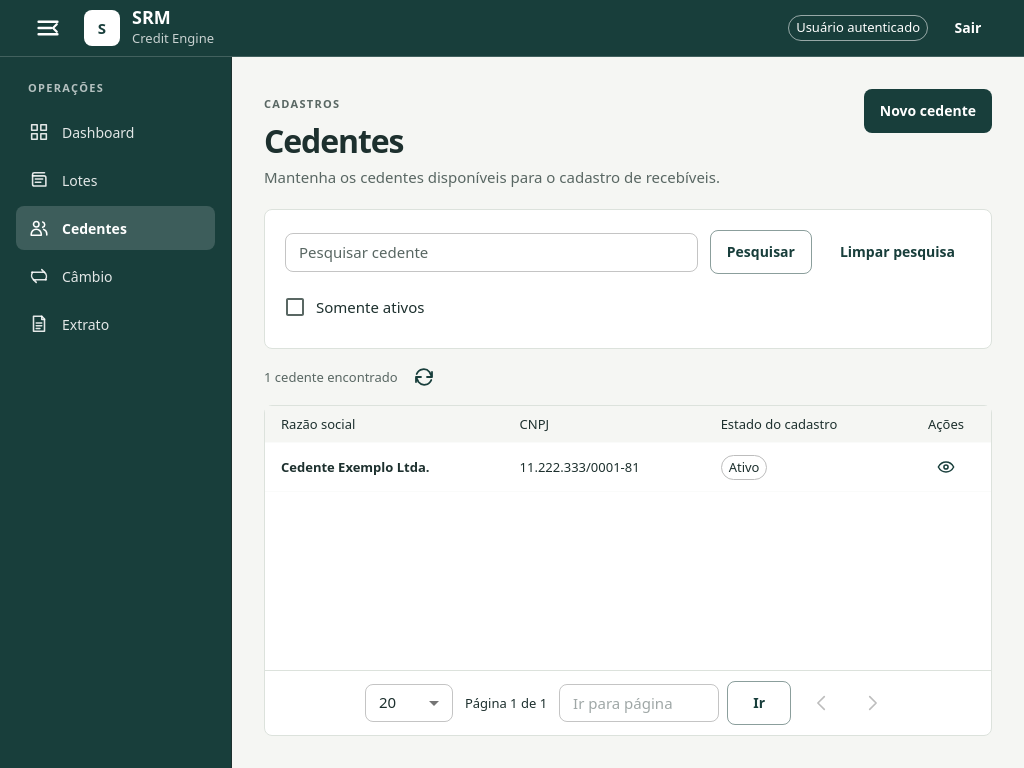
it: falha de consulta após POST aceito mantém dados e permite somente repetir GET
Expected: the table is shown, [265, 406, 991, 492]
Click the button "Novo cedente": (928, 111) [864, 89, 992, 133]
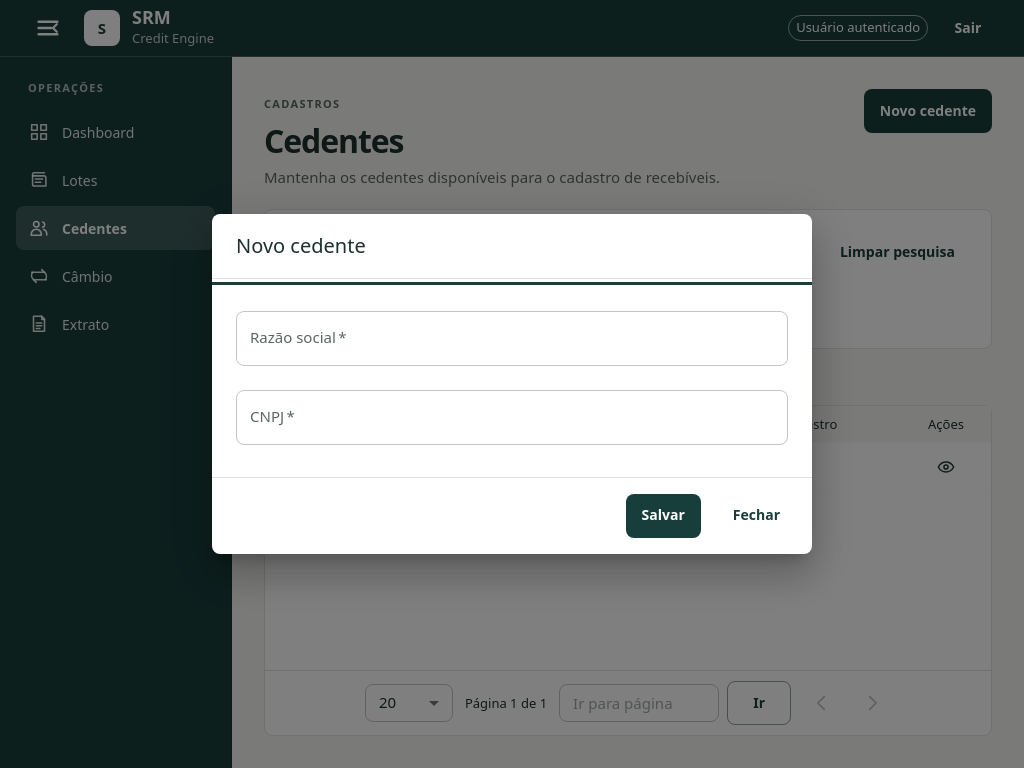
In the field labelled "Razão social": (512, 339) [236, 311, 788, 366], type "Meu rascunho"
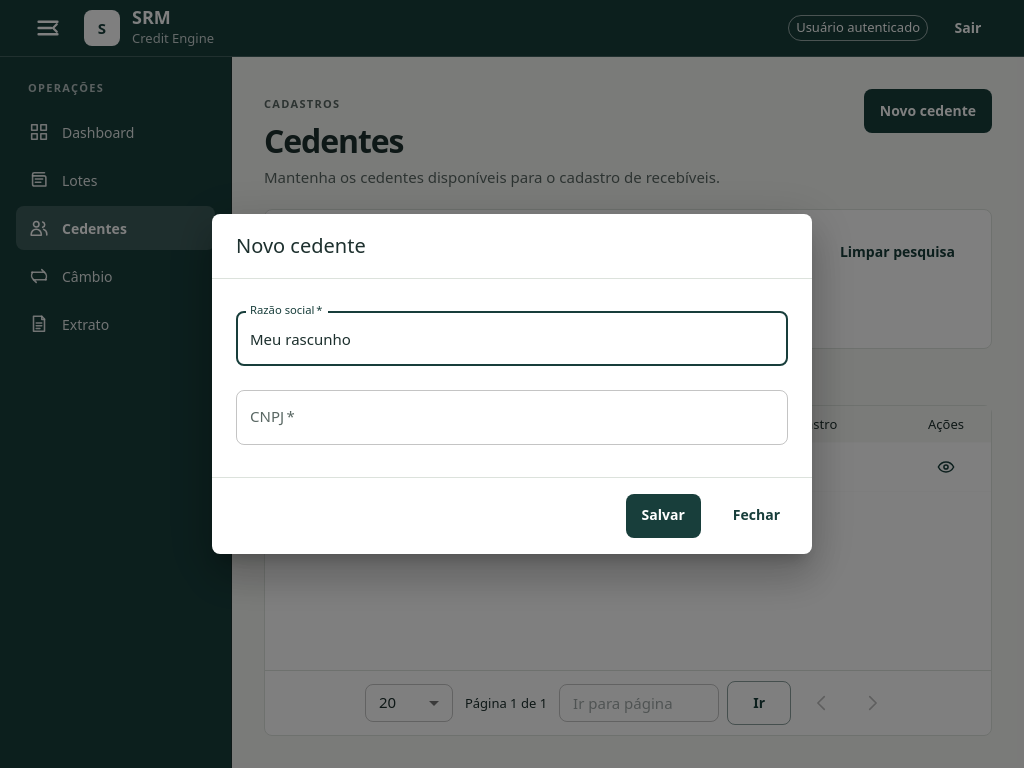
In the field labelled "CNPJ": (512, 417) [236, 390, 788, 445], type "11444777000161"
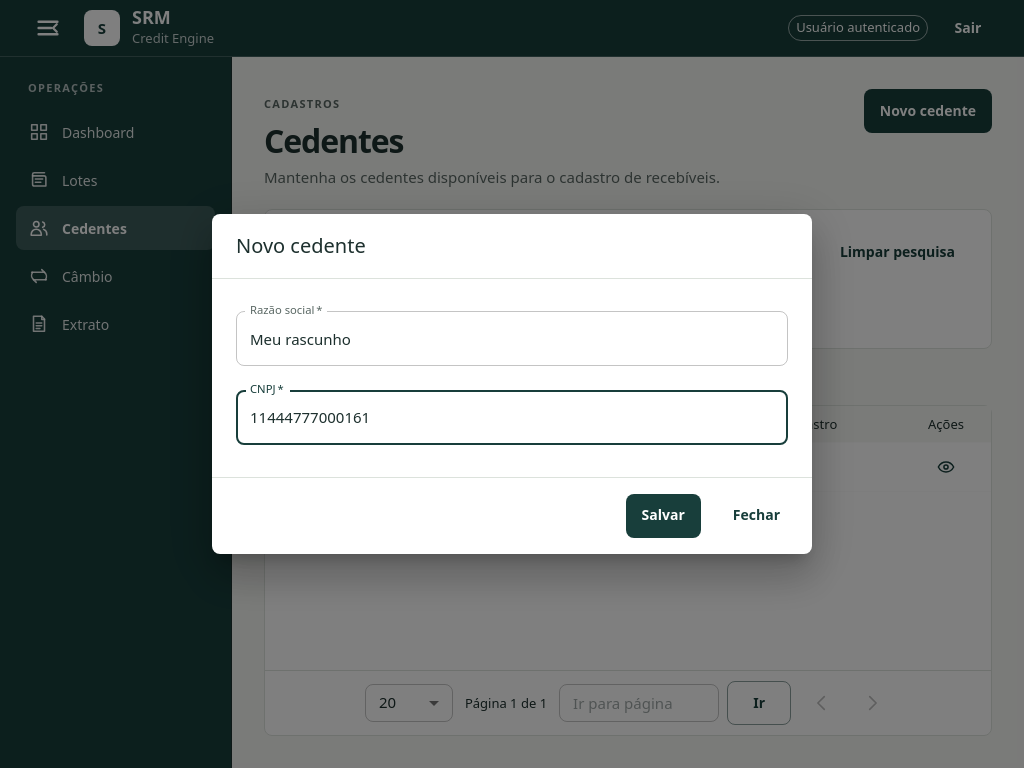
Click the button "Salvar": (663, 516) [626, 494, 701, 538]
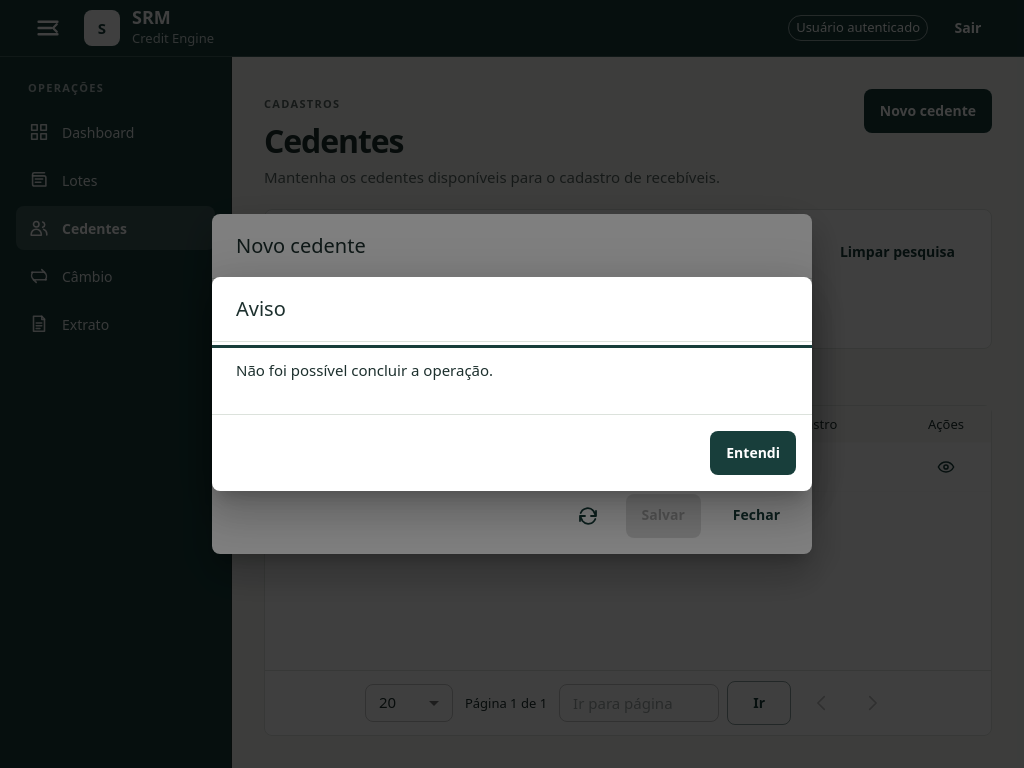
Result: the dialog "Aviso" is shown at [212, 277, 812, 491]
Click the button "Entendi": (753, 453) [710, 431, 796, 475]
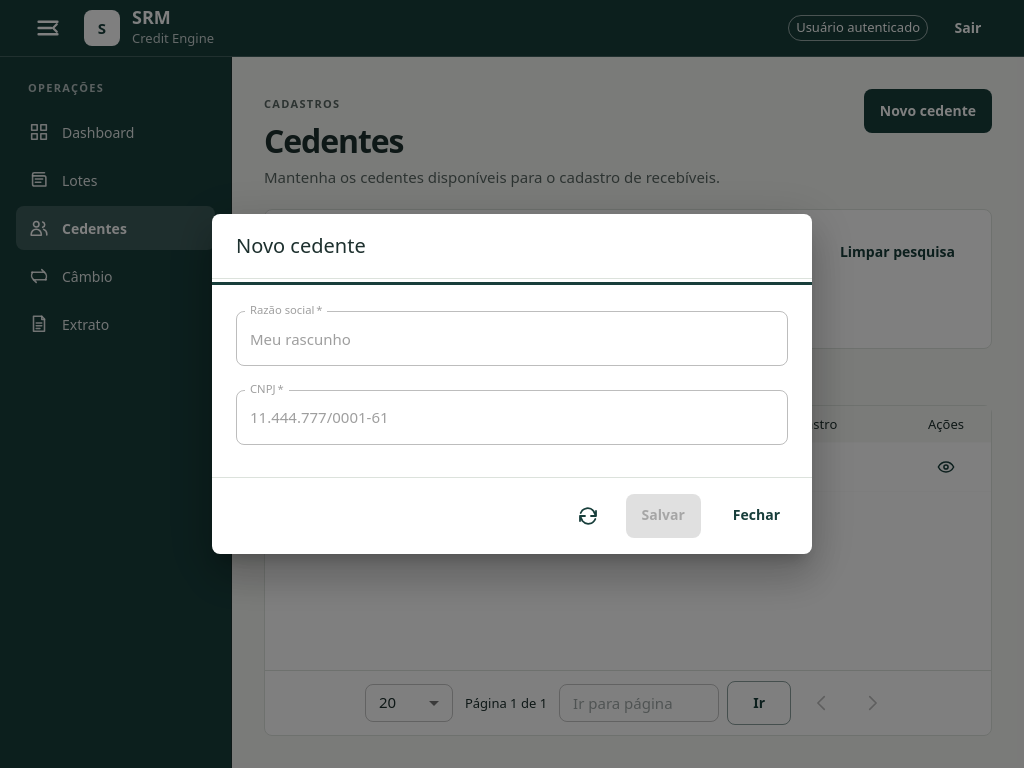
Result: the button "Salvar" is disabled at [626, 494, 701, 538]
Result: the heading "Aviso" is gone
Click the button named "Atualizar dados salvos": (588, 516) [566, 494, 610, 538]
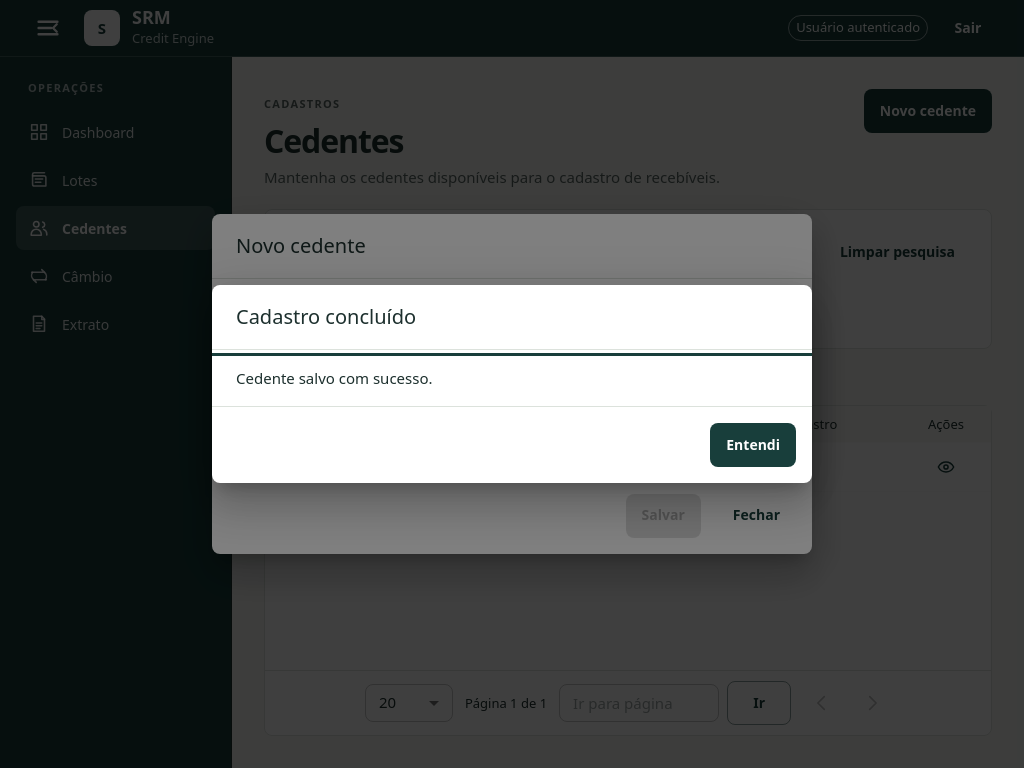
Result: the dialog "Cadastro concluído" is shown at [212, 285, 812, 483]
